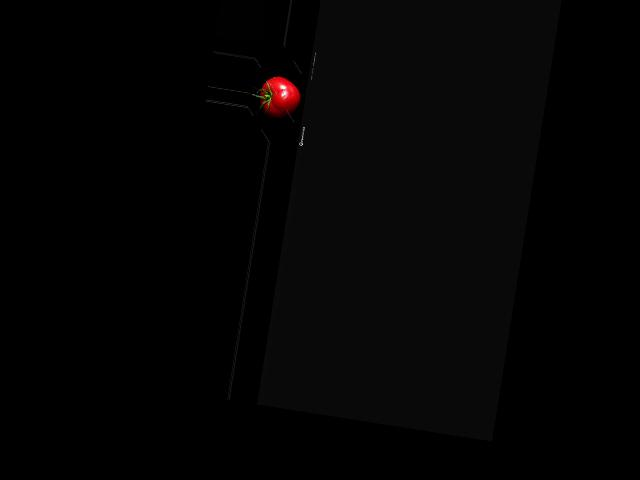tomato: (256, 73, 303, 121)
